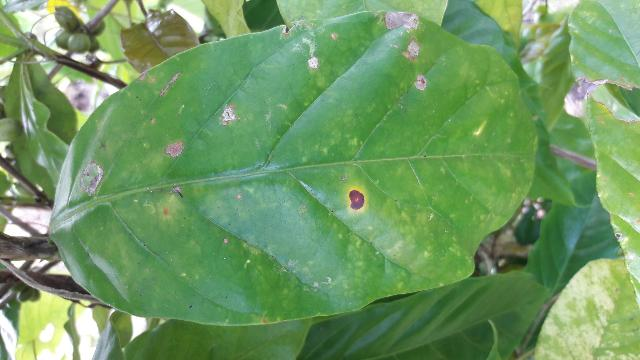rust_level_1: (49, 12, 534, 324)
